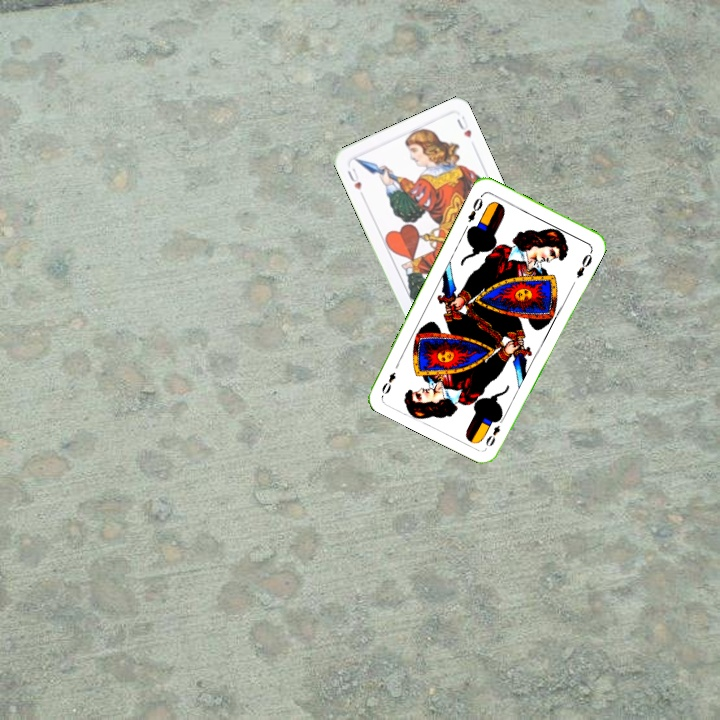EO: (481, 412, 507, 449), (464, 190, 486, 225)
HU: (343, 164, 364, 193)
